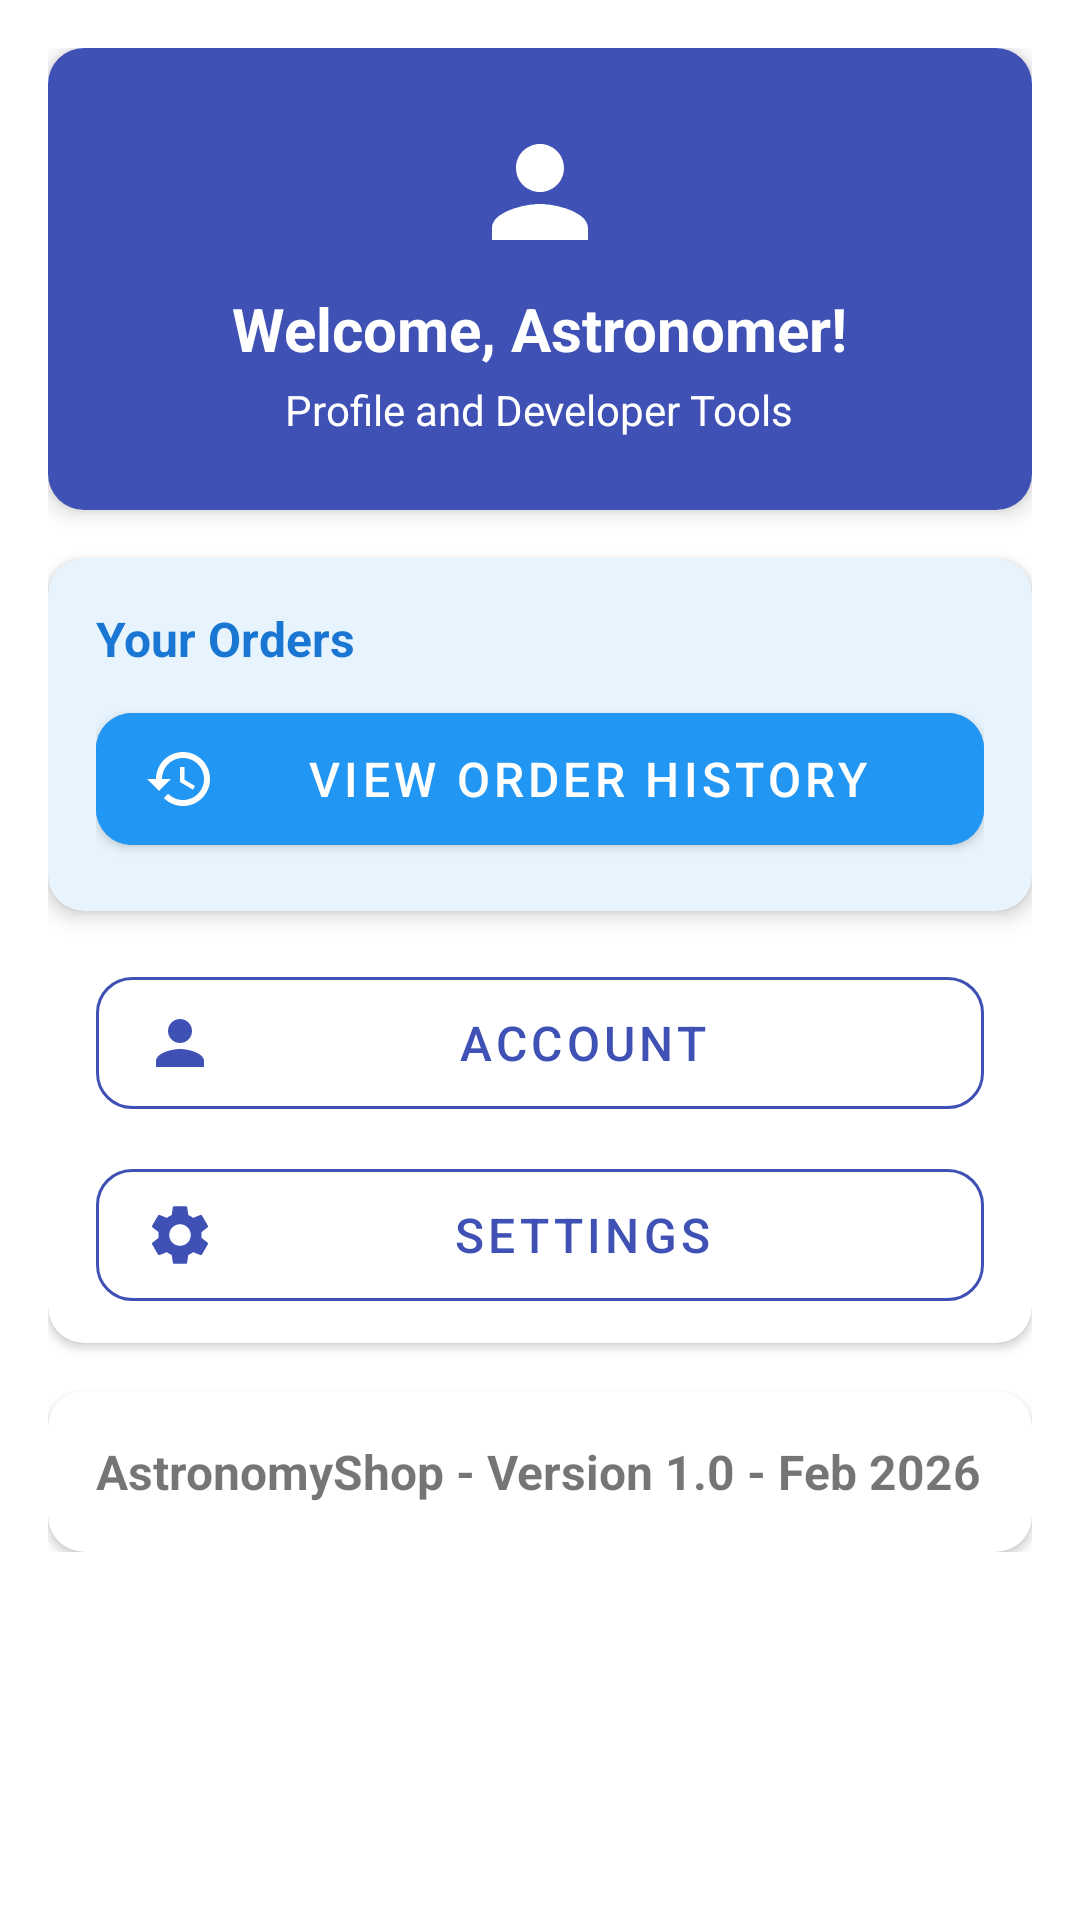

Screen size 1080 x 1920. Icon name, then its center in pixels as [x,y]:
person: [540,192]
